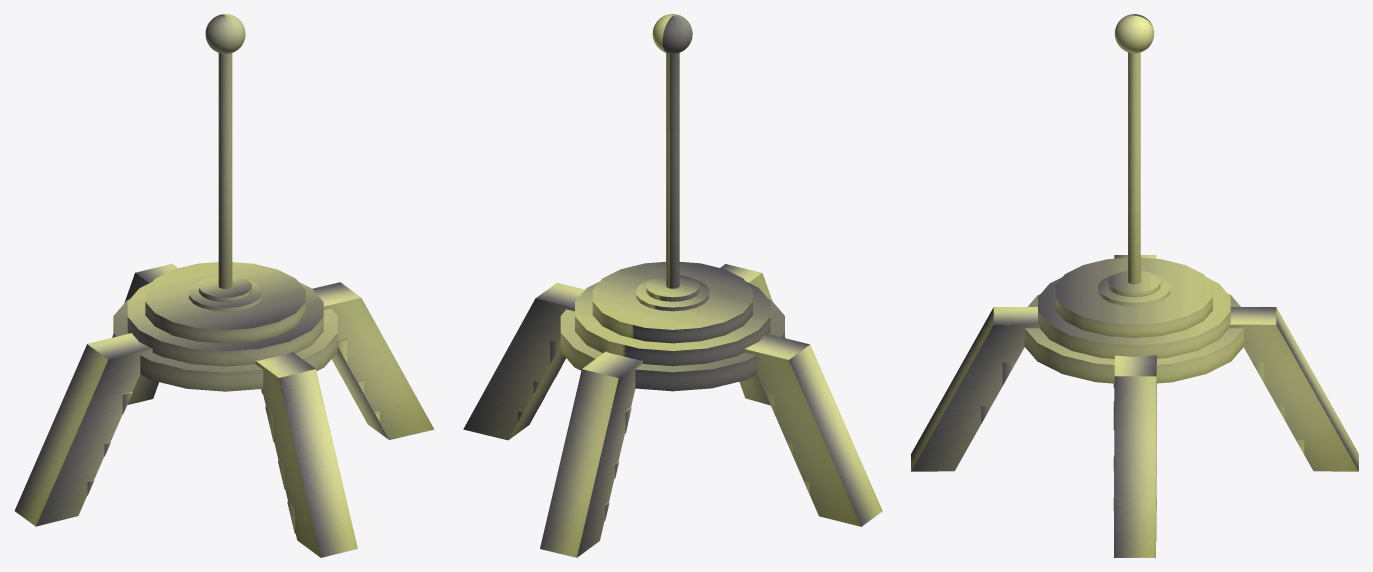
The model's file is yellowChangePlatform.FBX.
3 views of the same model, side by side, from view 1: azimuth 30°, elevation 25°; view 2: azimuth 150°, elevation 25°; view 3: azimuth 270°, elevation 25° (orthographic).
Visible parts, largest first — view 1: Box005; view 2: Box005; view 3: Box005.
Part boxes in pixels (x1,y1,x2,y2): Box005: [14, 14, 434, 557]; Box005: [463, 14, 882, 557]; Box005: [911, 14, 1358, 557].
Bounding box in the file's own units: 186 × 203 × 184.
1 material, 1 textured.
